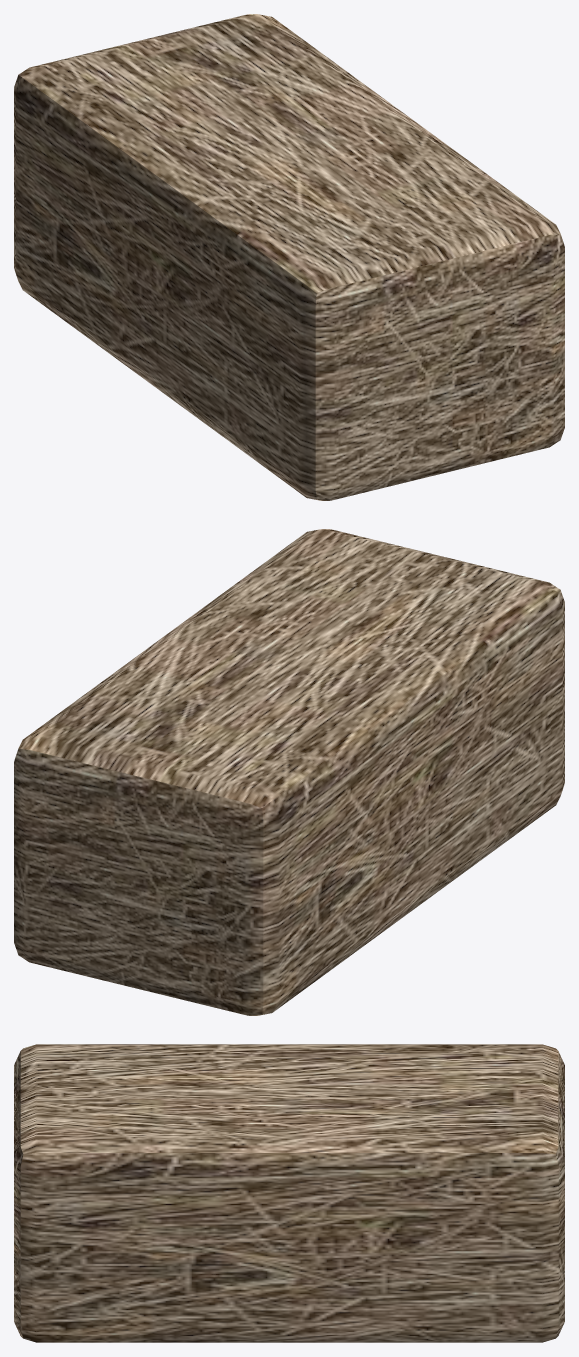
Rendered from crop barn.fbx.
3 renders of one model, top to bottom at view 1: azimuth 30°, elevation 25°; view 2: azimuth 150°, elevation 25°; view 3: azimuth 270°, elevation 25°, orthographic. The views are drawn at different scales.
Parts seen in each view (by area): view 1: pCube107; view 2: pCube107; view 3: pCube107.
Boxes of the visible parts, x1,y1,x2,y2 form: pCube107: (14, 14, 564, 500); pCube107: (14, 529, 564, 1015); pCube107: (14, 1044, 564, 1342).
Bounding box in the file's own units: 79.83 × 65.69 × 163.
1 material, 1 textured.
